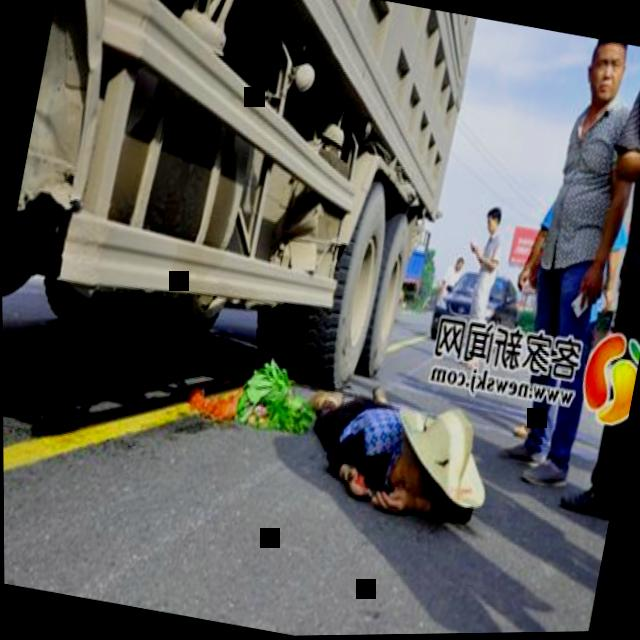Fall-Detected: (272, 347, 509, 546)
